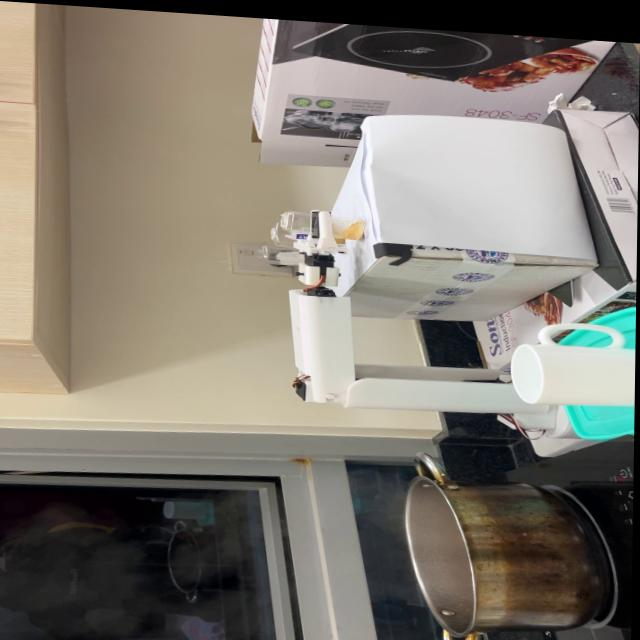cooking_pot: (404, 445, 607, 640)
garlic_powder: (335, 212, 369, 233)
